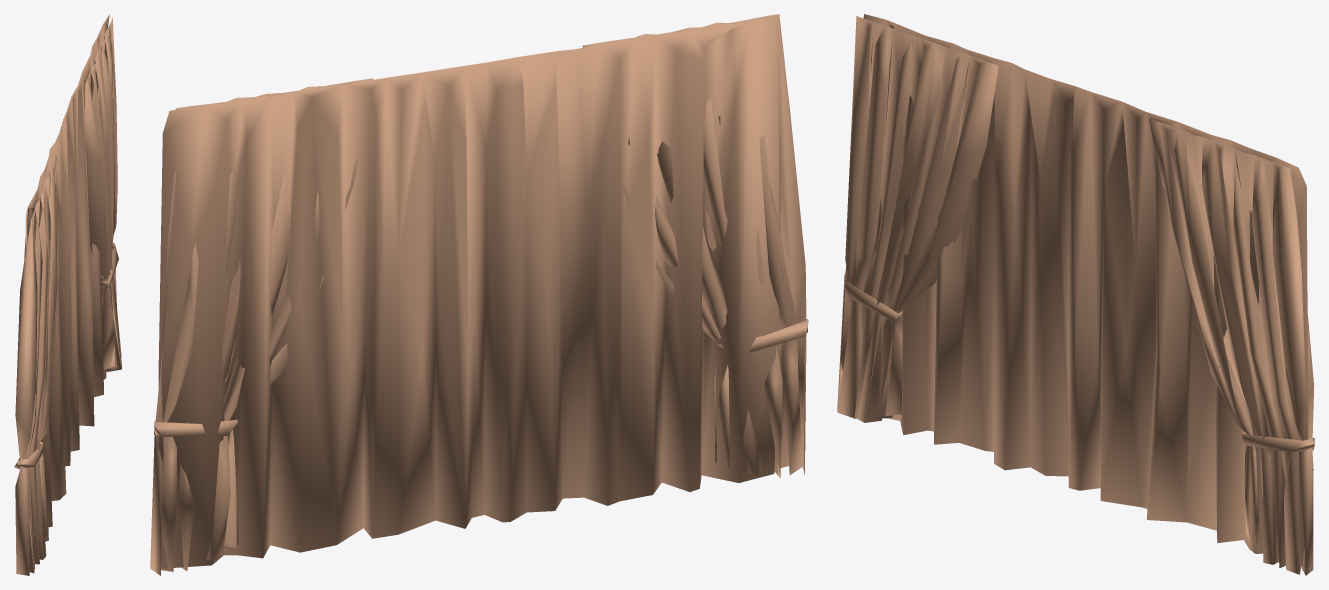
File: Corner_Curtains.fbx
3 views of the same model, side by side, from view 1: azimuth 30°, elevation 25°; view 2: azimuth 150°, elevation 25°; view 3: azimuth 270°, elevation 25° (orthographic). The views are drawn at different scales.
Visible parts, largest first — view 1: Tulle; view 2: Tulle; view 3: Tulle.
Boxes of the visible parts, x1=… form: Tulle: x1=14, y1=14, x2=121, y2=575; Tulle: x1=150, y1=14, x2=808, y2=575; Tulle: x1=837, y1=14, x2=1314, y2=575.
Size of the model in its own units: 321 by 356 by 382.
